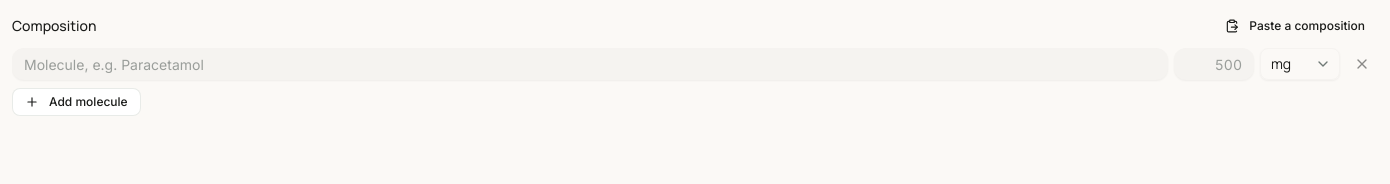
Scenario: the molecule box › offers what the system already knows, with the schedule shown
Click the field named "Molecule 1" at (590, 64), box [12, 48, 1168, 80]
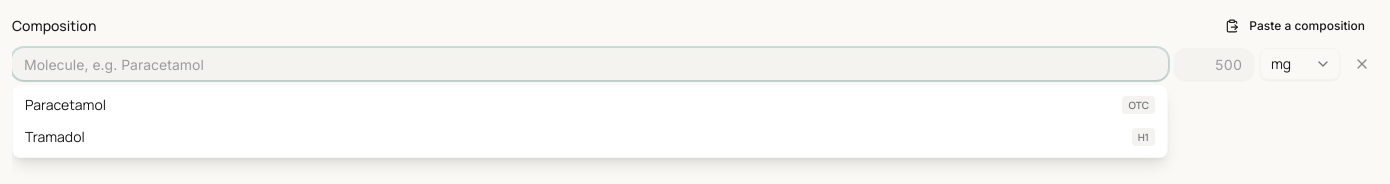
Result: the list named "Molecule 1 suggestions" is shown at [12, 84, 1168, 158]
Result: the text "Paracetamol" is shown at [25, 95, 106, 115]
Result: the text "H1" is shown at [1132, 128, 1155, 146]
